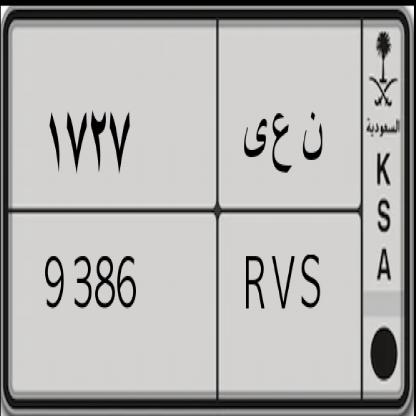english: (7, 202, 367, 402)
